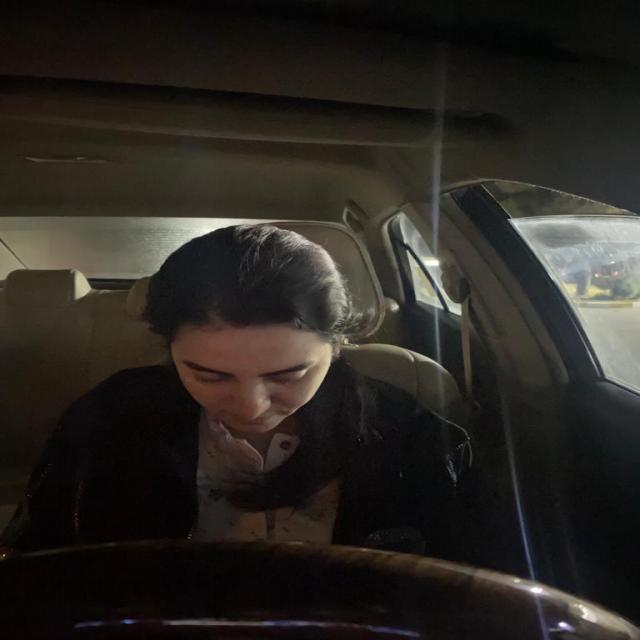drowsy: (167, 250, 359, 437)
